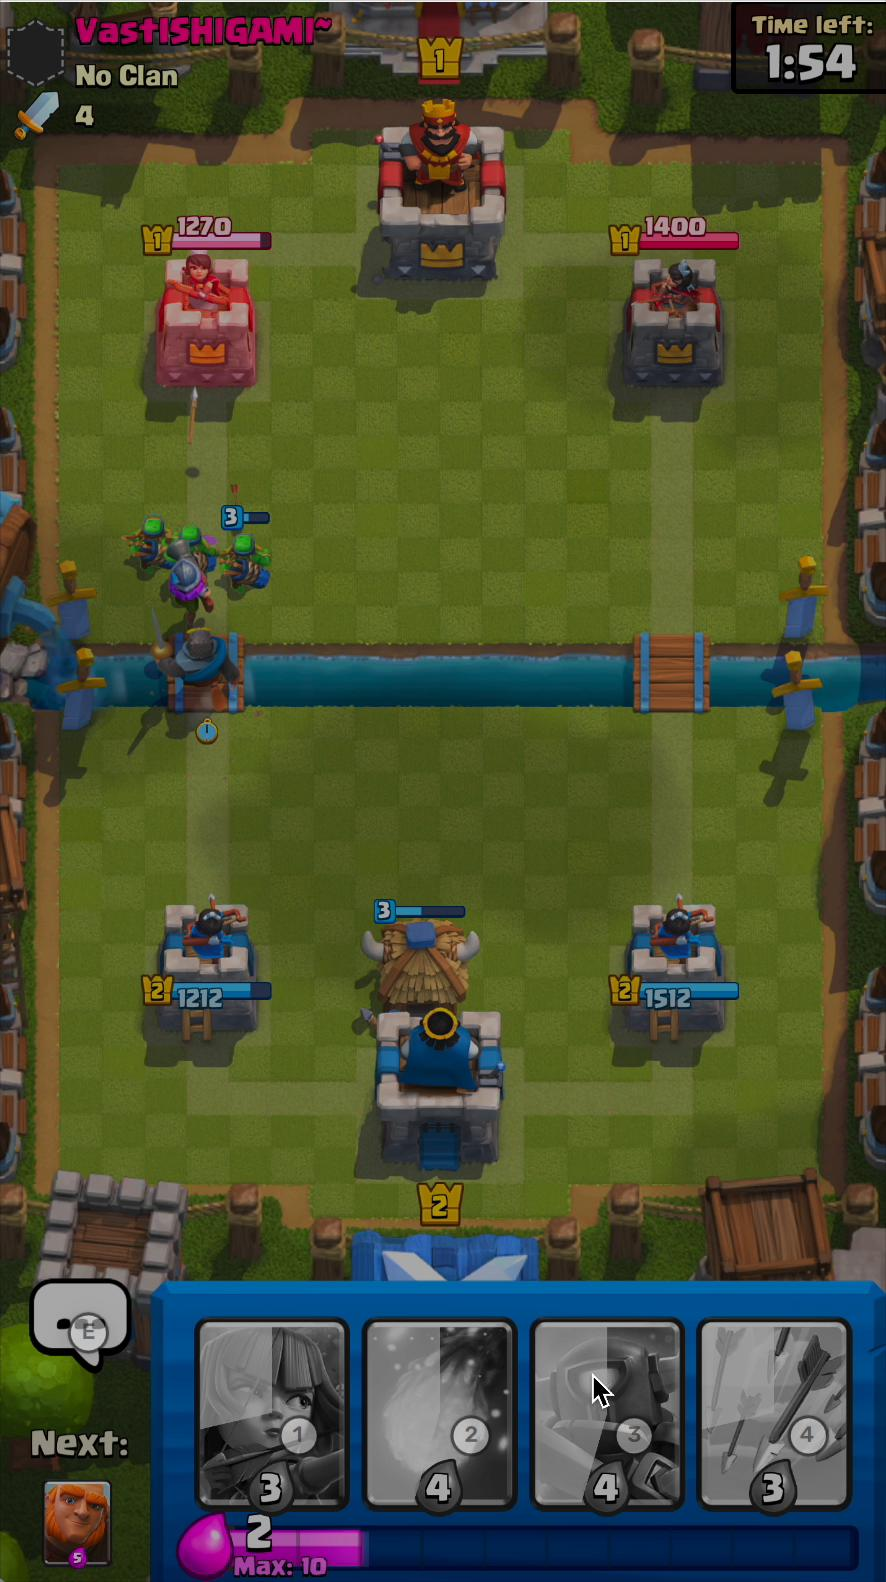chevalier: (142, 617, 250, 694)
gobelin_lances: (212, 531, 280, 594), (120, 516, 180, 574), (164, 526, 224, 576)
mousquetaire: (154, 555, 223, 629)
